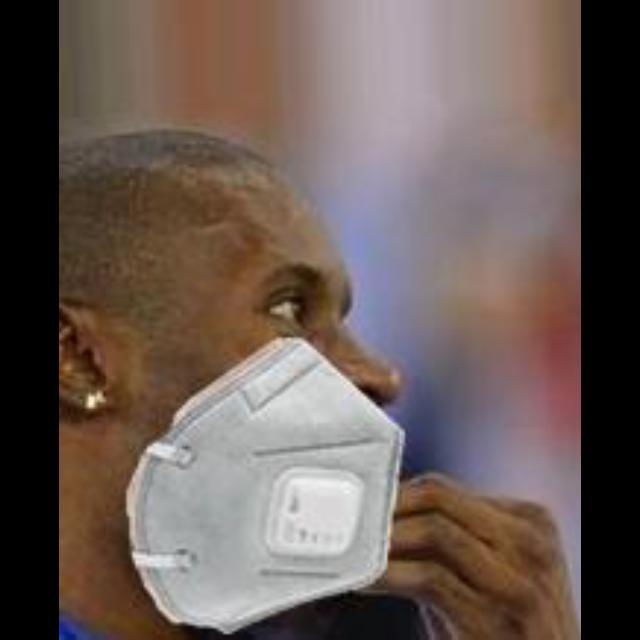suspicion: (122, 141, 448, 625)
